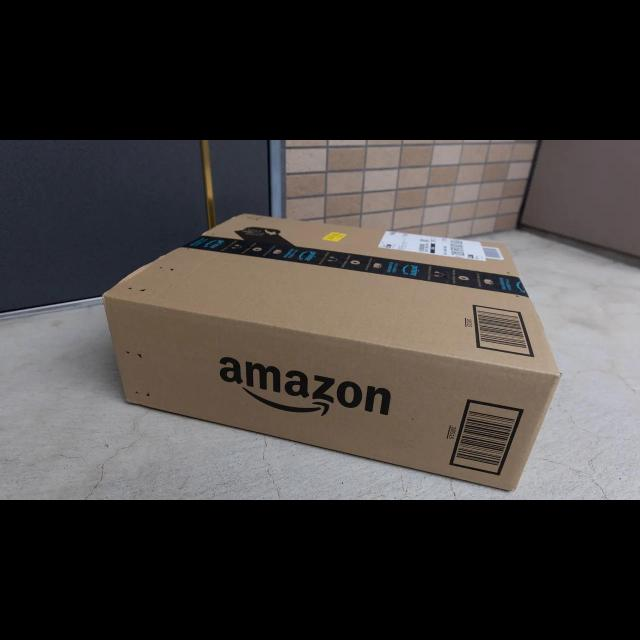box: (101, 211, 563, 493)
